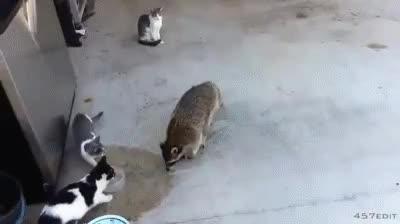raccoon: (160, 79, 226, 174)
